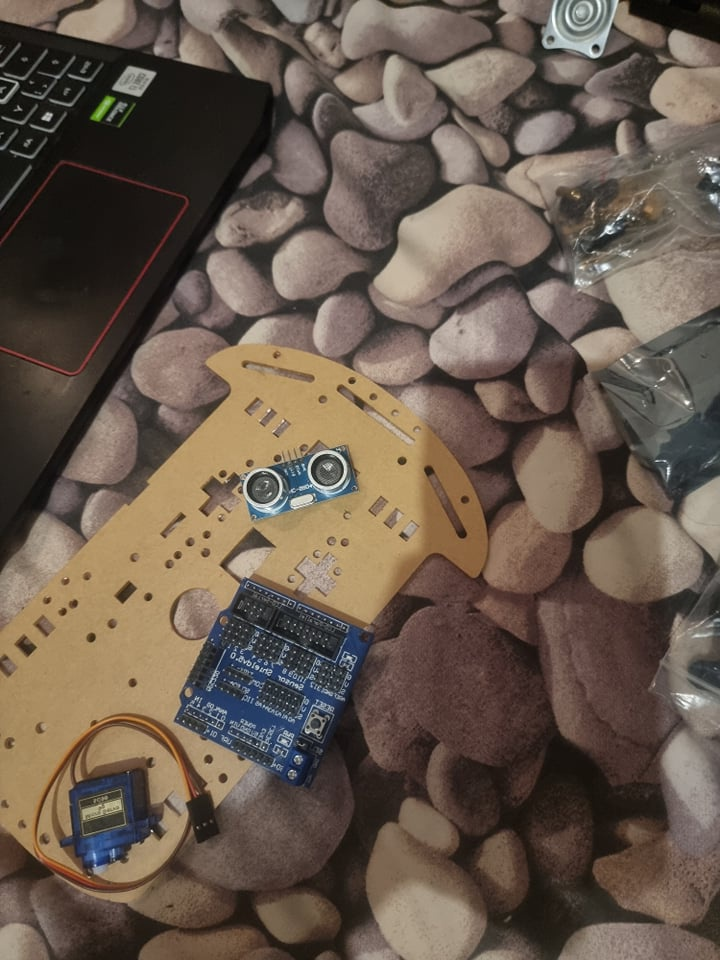5V EXPANSION: (173, 578, 377, 786)
SENSOR: (241, 444, 357, 525)
